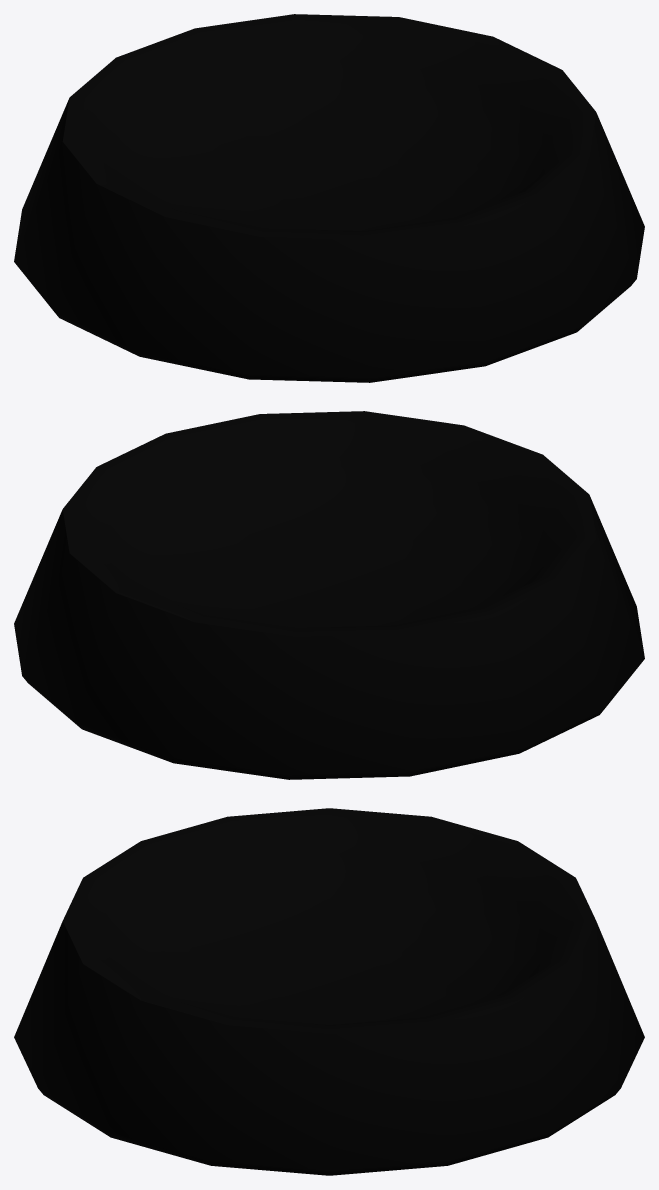
3 views of the same model, one above another, from view 1: azimuth 30°, elevation 25°; view 2: azimuth 150°, elevation 25°; view 3: azimuth 270°, elevation 25° (orthographic).
Visible parts, largest first — view 1: Joint_0_Object_0; view 2: Joint_0_Object_0; view 3: Joint_0_Object_0.
Boxes of the visible parts, x1,y1,x2,y2 form: Joint_0_Object_0: (14,14,644,382); Joint_0_Object_0: (14,411,644,779); Joint_0_Object_0: (14,808,644,1175).
Size of the model in its own units: 461 by 100 by 461.
1 material, 1 textured.
